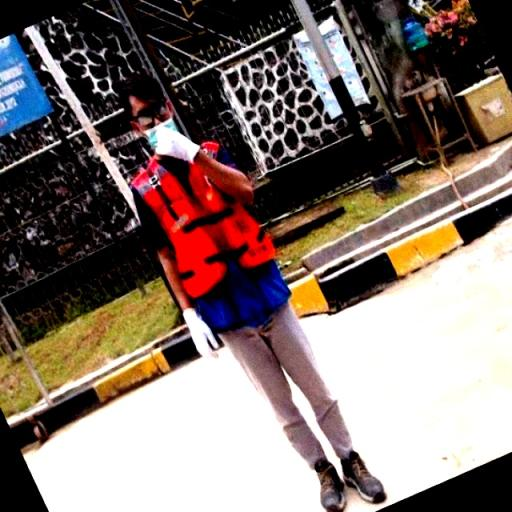boots: (341, 437, 391, 504), (308, 447, 354, 511)
gloves: (174, 296, 225, 366), (148, 123, 204, 166)
vest: (127, 151, 284, 300)
